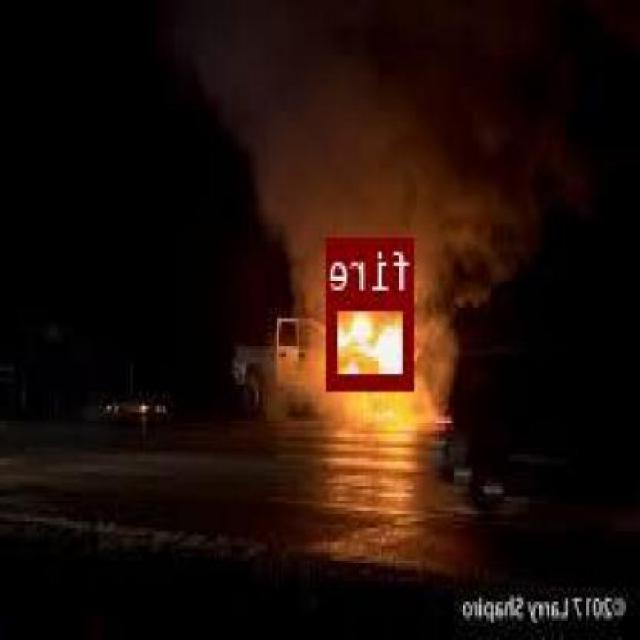Fire: (328, 292, 416, 388)
